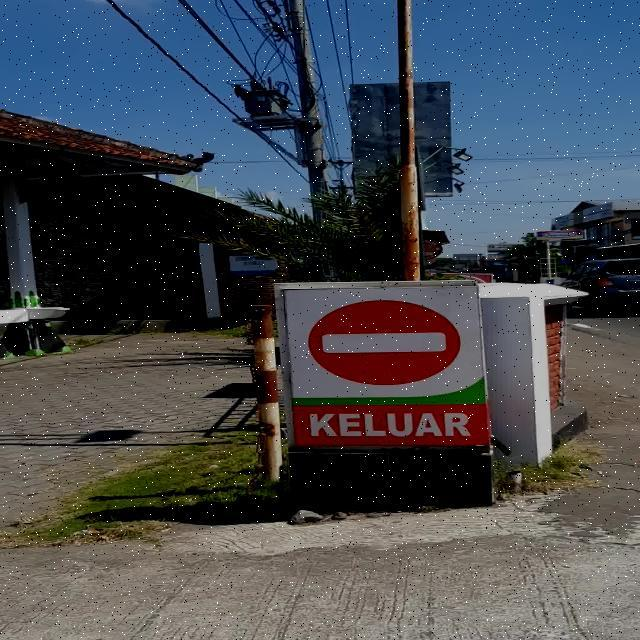Dilarang Masuk: (308, 300, 461, 386)
